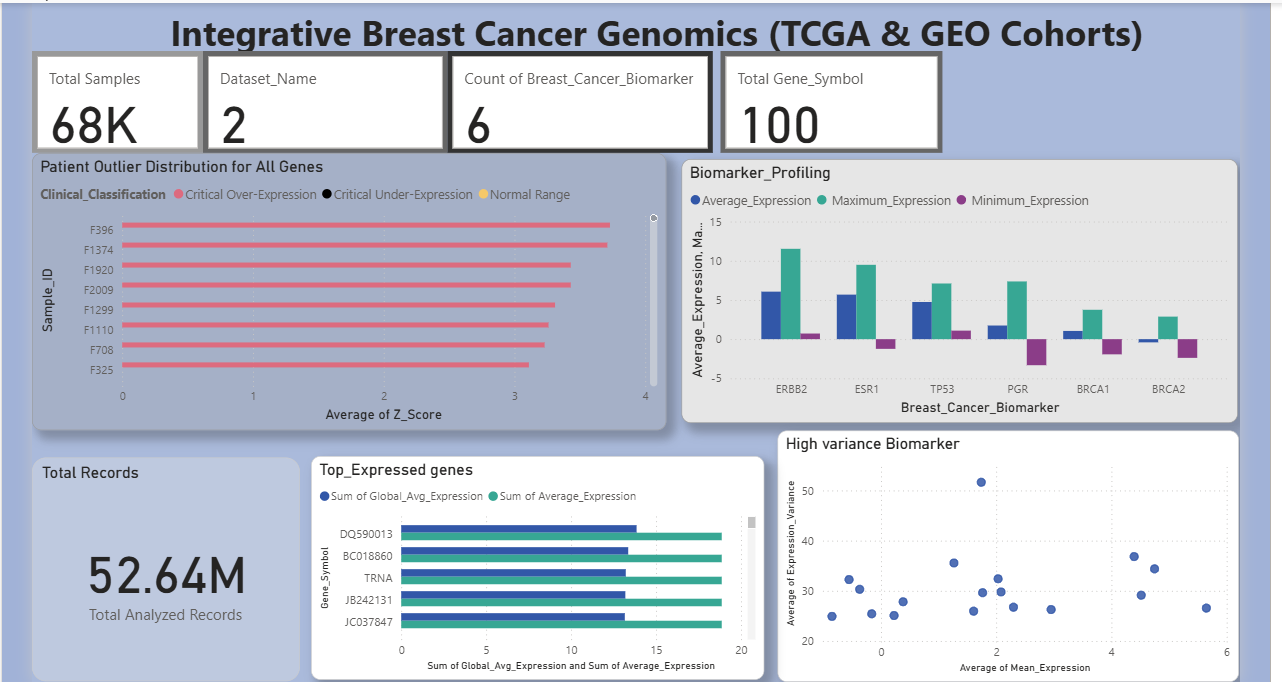

The page's visual inventory and layout, read from the dashboard file:
{"tool":"powerbi","page":{"name":"P","canvas":[1280,720],"ordinal":0},"visuals":[{"type":"clusteredBarChart","title":"Patient_Outlier_Distribution","fields":{"Y":["Avg(Query1.Z_Score)"],"Category":["Query1.Sample_ID"],"Series":["Query1.Clinical_Classification"]},"box":[0,158.9,672.6,293.8],"z":0},{"type":"clusteredColumnChart","title":"Biomarker_Profiling","fields":{"Category":["vw_Biomarker_Profiling (2).Breast_Cancer_Biomarker"],"Y":["Sum(vw_Biomarker_Profiling (2).Average_Expression)","Sum(vw_Biomarker_Profiling (2).Maximum_Expression)","Sum(vw_Biomarker_Profiling (2).Minimum_Expression)"]},"box":[688.7,158.9,590.8,279.3],"z":1000},{"type":"scatterChart","title":"High variance Biomarker","fields":{"X":["Avg(vw_Cross_Cohort_High_Variance_Biomarkers (2).Mean_Expression)"],"Y":["Avg(vw_Cross_Cohort_High_Variance_Biomarkers (2).Expression_Variance)"],"Category":["vw_Cross_Cohort_High_Variance_Biomarkers (2).Verified_Gene_Symbol"]},"box":[789.8,452.7,489.6,266.5],"z":2000},{"type":"clusteredBarChart","title":"Top_Expressed genes","fields":{"Category":["Query3.Gene_Symbol"],"Y":["Avg(Query3.Global_Avg_Expression)"]},"box":[295.9,466,480.4,237],"z":3000},{"type":"card","title":"Total Records","fields":{"Values":["Avg(vw_Data_Quality_and_Completeness_Audit (2).Total_Records)"]},"box":[0,481.6,284.1,237.6],"z":4000},{"type":"slicer","fields":{"Values":["vw_Cross_Cohort_Identifier_Mapping (2).Gene_Symbol"]},"box":[0,89.9,592.4,69],"z":5000},{"type":"textbox","box":[181.4,0,1098.1,77.1],"z":6000}]}

Visuals, with their boxes on the page's 1280x720 design canvas (x1, y1, x2, y2). These are canvas units, not pixel positions in the 1282x682 screenshot, which may show the page scaled, cropped or inside an application window:
"Patient_Outlier_Distribution" clusteredBarChart: (0, 159, 673, 453)
"Biomarker_Profiling" clusteredColumnChart: (689, 159, 1280, 438)
"High variance Biomarker" scatterChart: (790, 453, 1279, 719)
"Top_Expressed genes" clusteredBarChart: (296, 466, 776, 703)
"Total Records" card: (0, 482, 284, 719)
slicer - vw_Cross_Cohort_Identifier_Mapping (2).Gene_Symbol: (0, 90, 592, 159)
textbox: (181, 0, 1280, 77)
